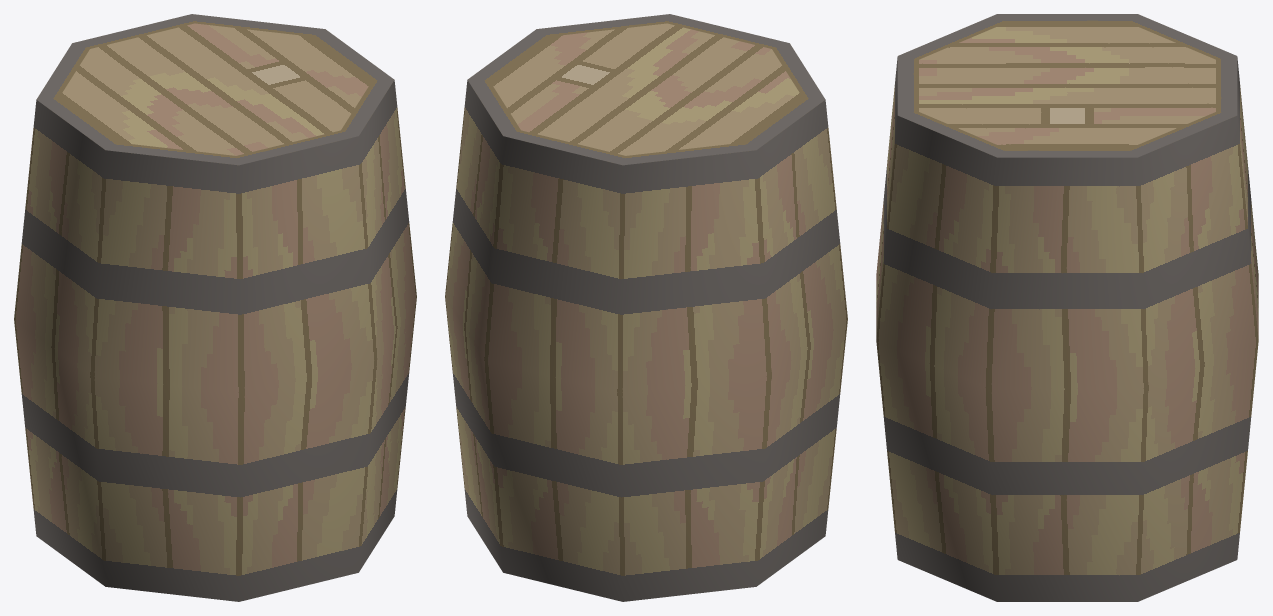
File: 006b_Barrel.glb
The picture shows the model from 3 angles, left to right: view 1: azimuth 30°, elevation 25°; view 2: azimuth 150°, elevation 25°; view 3: azimuth 270°, elevation 25°; orthographic projection.
Visible parts, largest first — view 1: part_0; view 2: part_0; view 3: part_0.
Part boxes in pixels (left/top/right/bottom): part_0: left=14, top=14, right=416, bottom=601; part_0: left=445, top=14, right=847, bottom=601; part_0: left=876, top=14, right=1258, bottom=601.
Size of the model in its own units: 0.6236 by 0.8 by 0.6236.
Materials: 1 (1 with a texture image).
